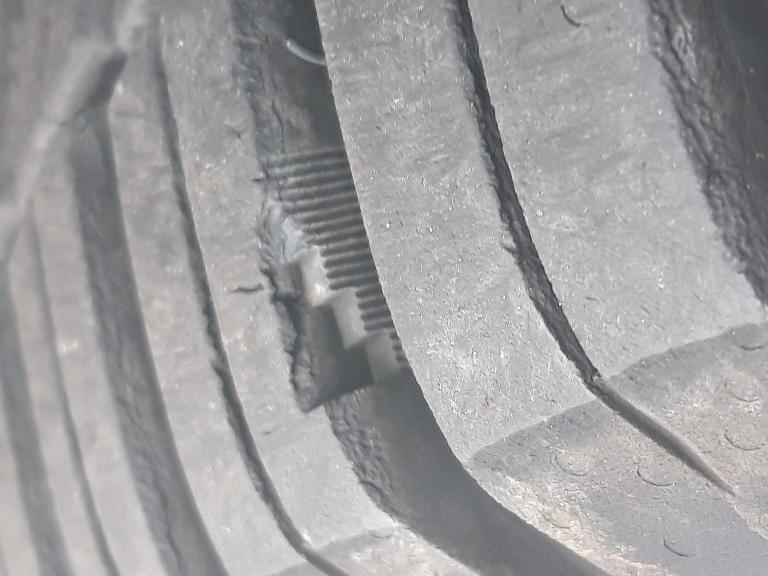temoin:80: (229, 142, 424, 429)
